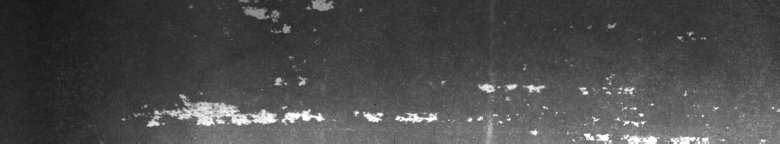kb: (121, 4, 719, 136)
